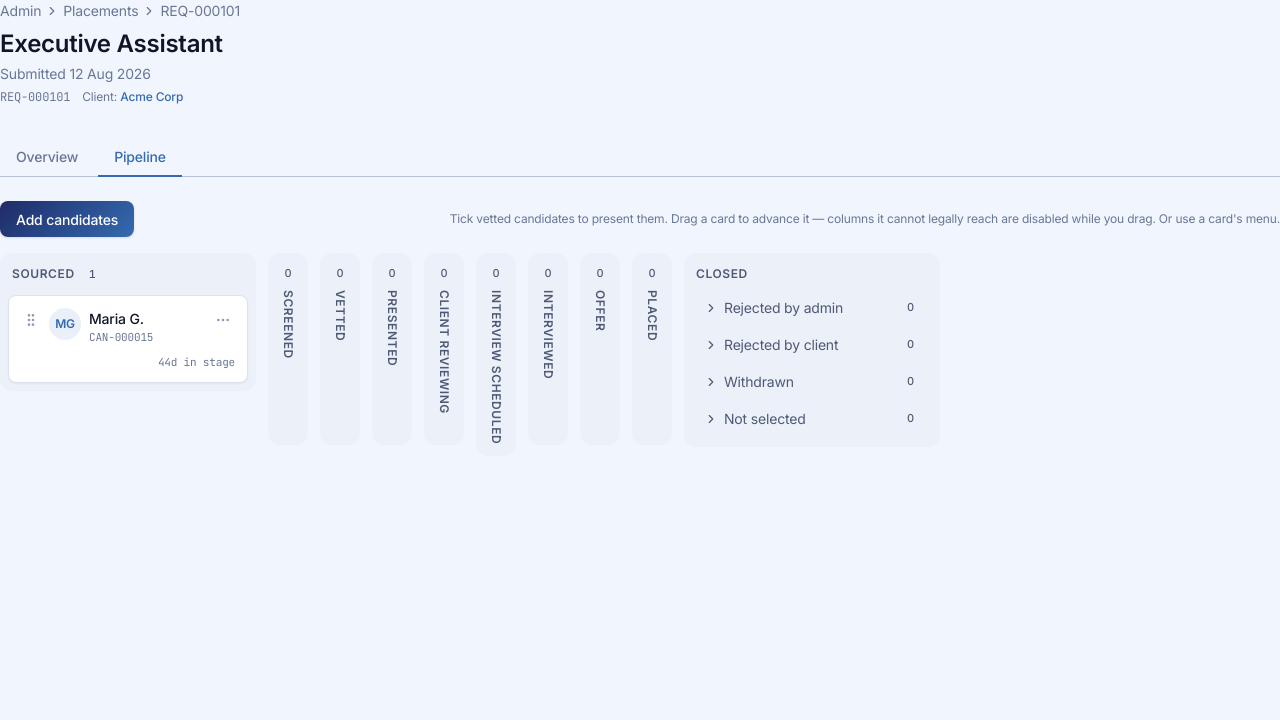
add candidates sheet › surfaces 409 DUPLICATE_ASSIGNMENT cleanly
Check: the element named "Sourced column" is shown, box 0,253 -> 256,391
Click the button "Add candidates": {"x": 67, "y": 219} 0,201 -> 134,237
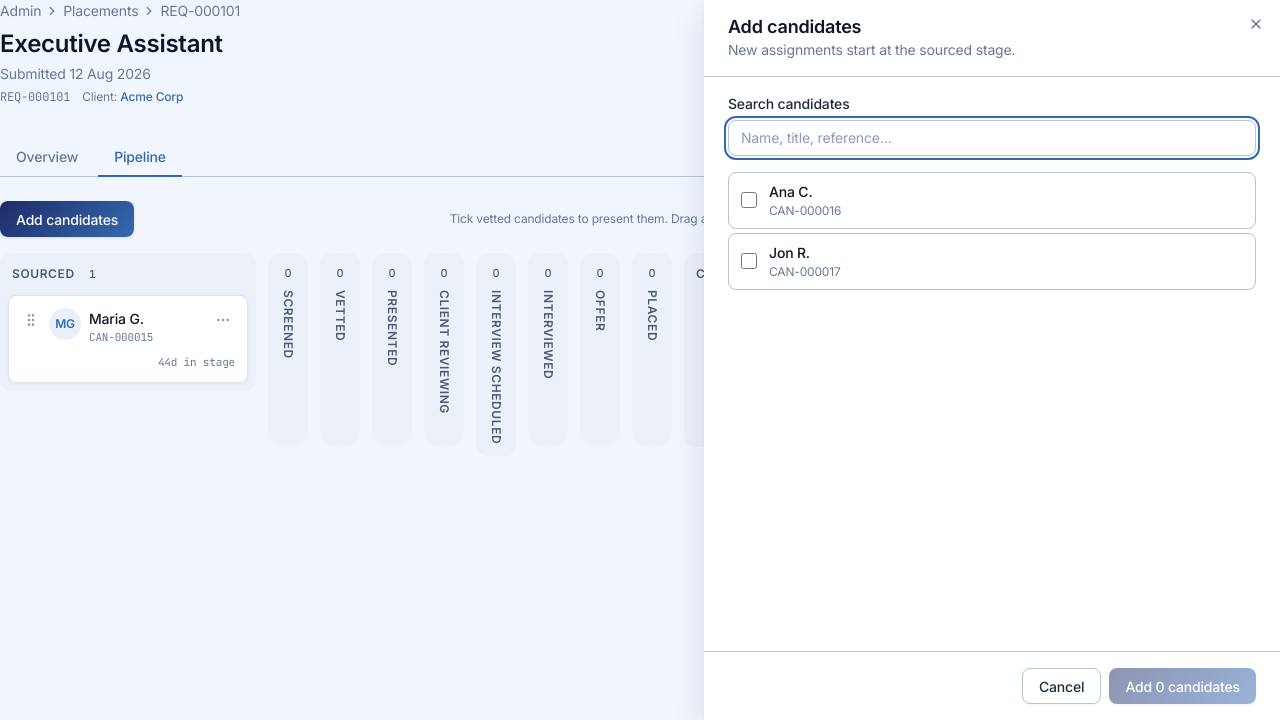
Check: the dialog is shown, box 704,0 -> 1279,719
Click the checkbox labelled "Ana C. CAN-000016": {"x": 749, "y": 200} 741,192 -> 757,208
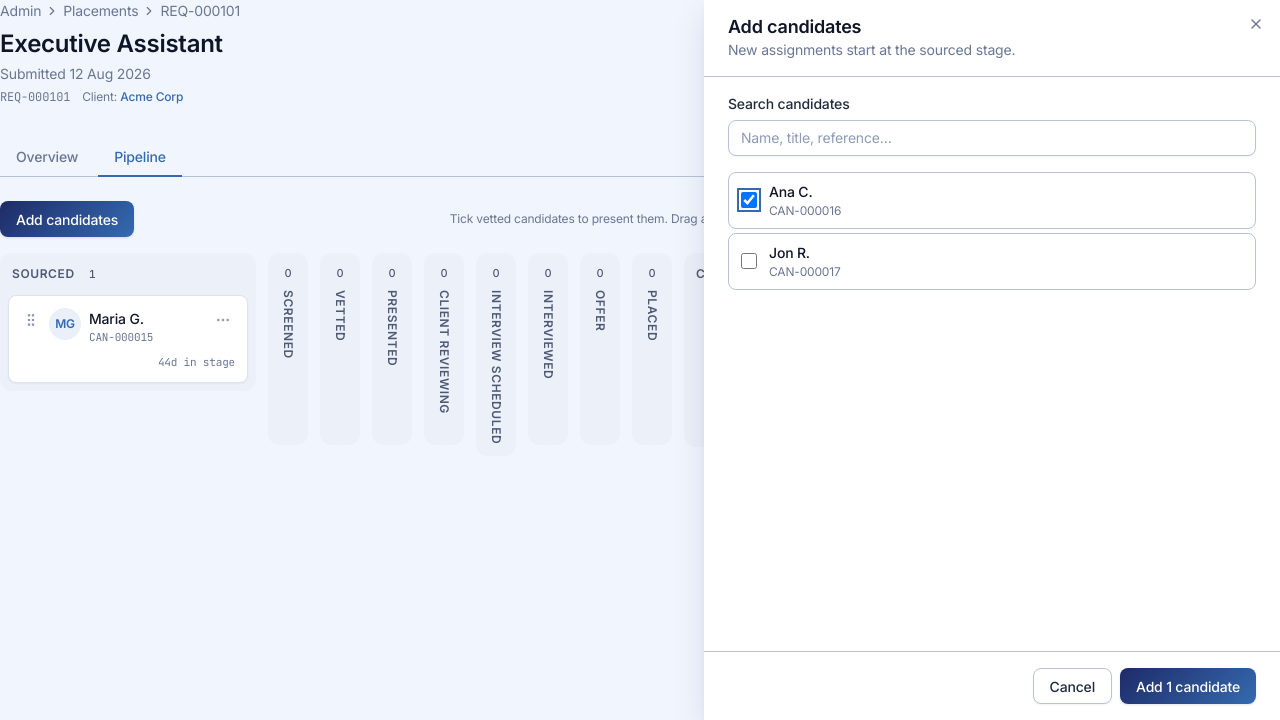
Click the button "Add 1 candidate": {"x": 1188, "y": 686} 1120,668 -> 1256,704
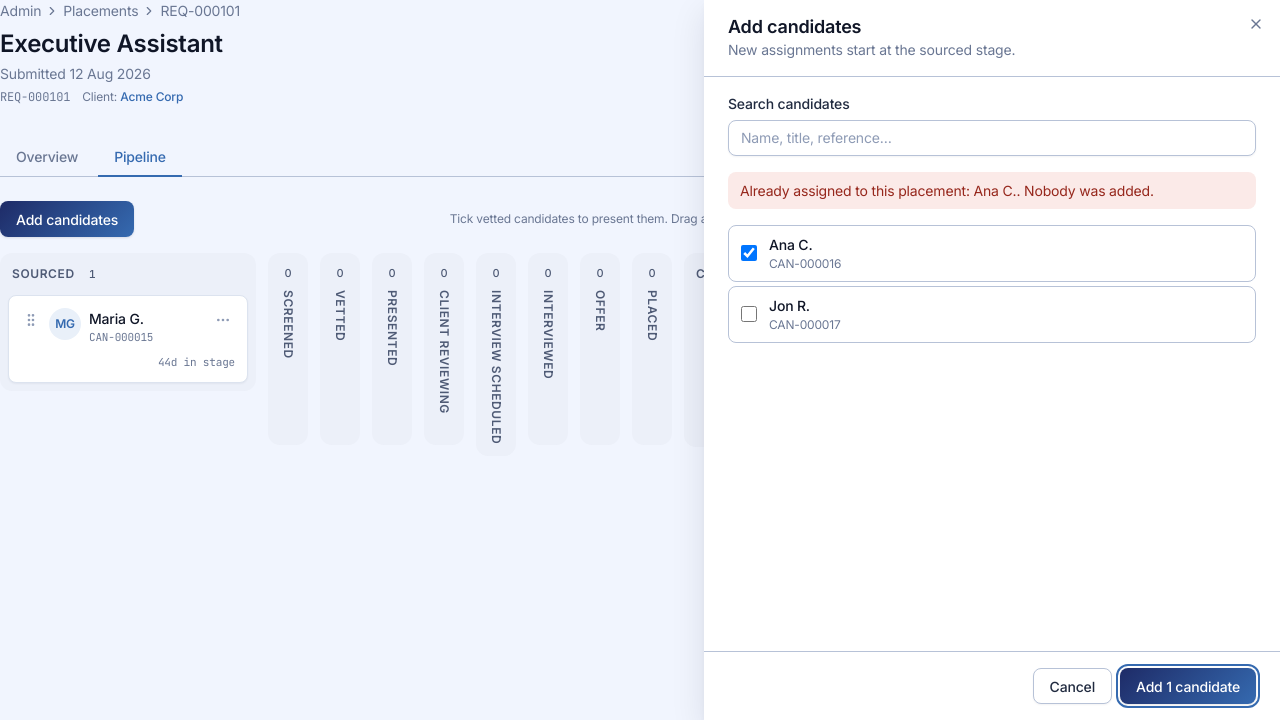
Check: the message shows "Already assigned", box 740,182 -> 1154,198
Check: the message shows "Ana C.", box 740,182 -> 1154,198
